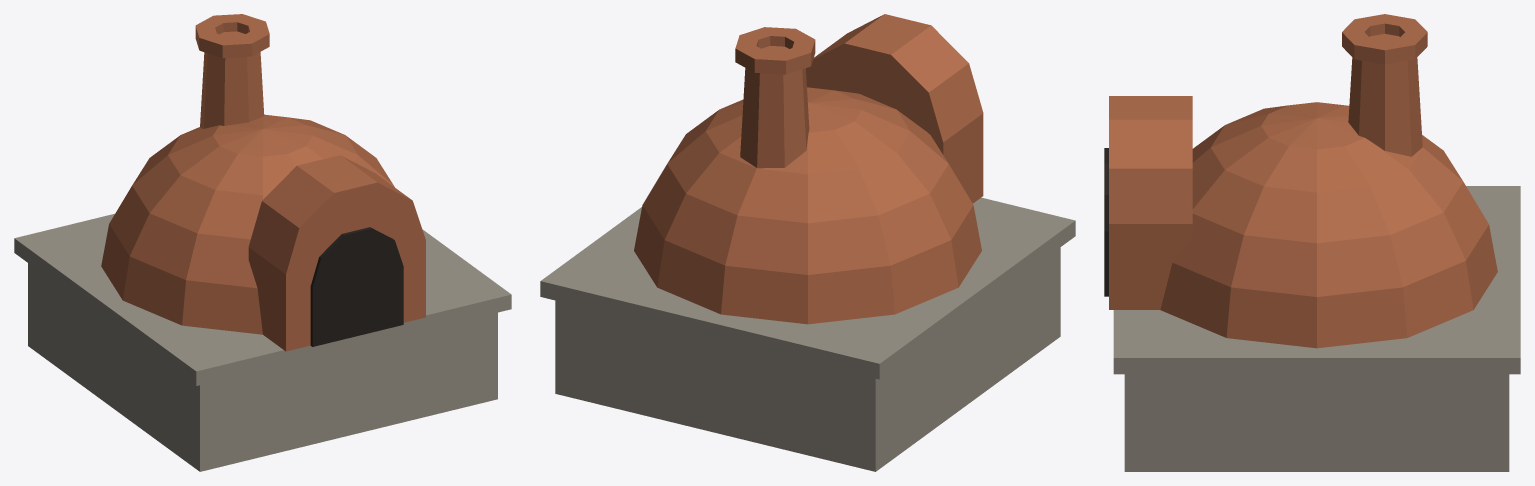
File: oven_lod0.glb
3 views of the same model, side by side, from view 1: azimuth 30°, elevation 25°; view 2: azimuth 150°, elevation 25°; view 3: azimuth 270°, elevation 25° (orthographic). The views are drawn at different scales.
Visible parts, largest first — view 1: oven; view 2: oven; view 3: oven.
Boxes of the visible parts, bbox=[...] form: oven: bbox=[14, 14, 511, 471]; oven: bbox=[540, 14, 1075, 471]; oven: bbox=[1104, 14, 1520, 471].
Size of the model in its own units: 1.8 by 1.75 by 1.84.
